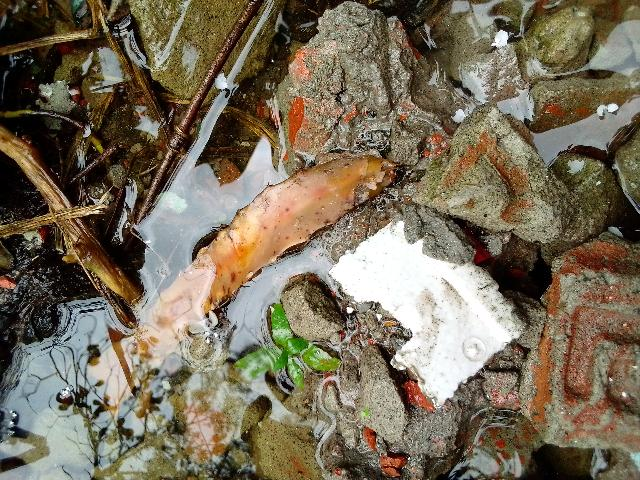cocksheet: (321, 185, 547, 424)
